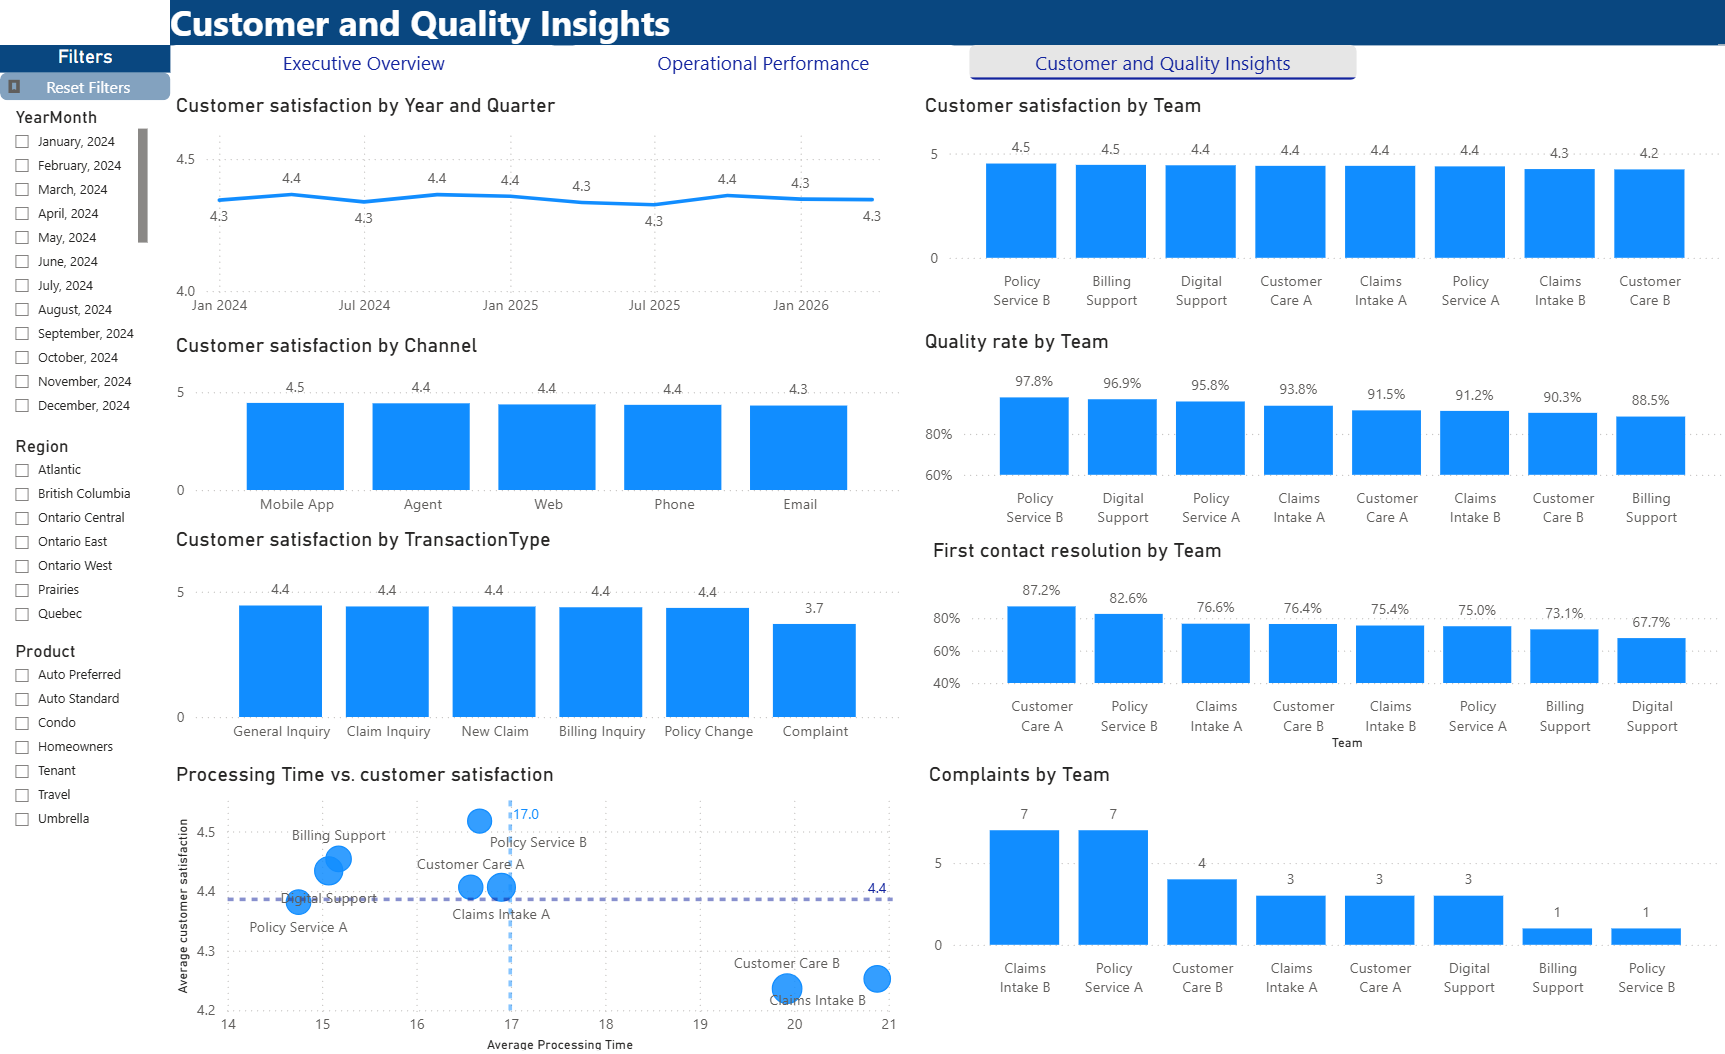

This screenshot's page, from the dashboard's own definition file:
{"tool":"powerbi","page":{"name":"Customer and Quality Insights","canvas":[1440,900],"ordinal":2},"visuals":[{"type":"lineChart","title":"Customer satisfaction by Year and Quarter","fields":{"Category":["DimDate.YearMonth.Variation.Date Hierarchy.Year","DimDate.YearMonth.Variation.Date Hierarchy.Quarter","DimDate.YearMonth.Variation.Date Hierarchy.Month","DimDate.YearMonth.Variation.Date Hierarchy.Day"],"Y":["Measures table.Average customer satisfaction"]},"box":[141.7,96.7,614.2,195],"z":0},{"type":"columnChart","title":"Customer satisfaction by Team","fields":{"Category":["DimTeam.Team"],"Y":["Measures table.Average customer satisfaction"]},"box":[765.8,96.7,674.2,188.3],"z":1000},{"type":"columnChart","title":"Customer satisfaction by TransactionType","fields":{"Category":["FactOperations.TransactionType"],"Y":["Measures table.Average customer satisfaction"]},"box":[141.7,458.3,614.2,188.3],"z":2000},{"type":"columnChart","title":"Customer satisfaction by Channel","fields":{"Category":["DimChannel.Channel"],"Y":["Measures table.Average customer satisfaction"]},"box":[141.7,296.7,614.2,160.8],"z":3000},{"type":"columnChart","title":"Quality rate by Team","fields":{"Category":["DimTeam.Team"],"Y":["Measures table.Quality rate %"]},"box":[765.8,293.3,674.2,172.5],"z":4000},{"type":"columnChart","title":"Complaints by Team","fields":{"Category":["DimTeam.Team"],"Y":["Sum(FactOperations.ComplaintFlag)"]},"box":[769.2,654.2,667.5,203.3],"z":5000},{"type":"slicer","fields":{"Values":["DimDate.YearMonth"]},"box":[0,103,127.9,267.9],"z":6000},{"type":"slicer","fields":{"Values":["DimRegion.Region"]},"box":[0,377.3,127.9,177.9],"z":7000},{"type":"slicer","fields":{"Values":["DimProduct.Product"]},"box":[0,548.7,134.2,170.8],"z":8000},{"type":"columnChart","title":"First contact resolution by Team","fields":{"Category":["DimTeam.Team"],"Y":["Measures table.First contact resolution %"]},"box":[772.5,467.5,667.5,180.8],"z":9000},{"type":"scatterChart","title":"Processing Time vs. customer satisfaction","fields":{"Category":["DimTeam.Team"],"Size":["Measures table.Total transactions"],"X":["Measures table.Average Processing Time"],"Y":["Measures table.Average customer satisfaction"]},"box":[141.7,654.2,614.2,245.8],"z":10000},{"type":"textbox","title":"INSURANCE OPERATIONS PERFORMANCE","box":[142,0,1298,57],"z":11000},{"type":"pageNavigator","title":"lalala","box":[142,57,991,29],"z":12000},{"type":"actionButton","title":"Filters","box":[0,57,142,46],"z":13000}]}

Visuals, with their boxes in screenshot pixels (x1, y1, x2, y2), scaled from the page's 1440x900 canvas onto the 1725x1054 screenshot:
"Customer satisfaction by Year and Quarter" lineChart: (170, 113, 906, 342)
"Customer satisfaction by Team" columnChart: (917, 113, 1724, 334)
"Customer satisfaction by TransactionType" columnChart: (170, 537, 906, 757)
"Customer satisfaction by Channel" columnChart: (170, 347, 906, 536)
"Quality rate by Team" columnChart: (917, 343, 1724, 546)
"Complaints by Team" columnChart: (921, 766, 1721, 1004)
slicer - DimDate.YearMonth: (0, 121, 153, 434)
slicer - DimRegion.Region: (0, 442, 153, 650)
slicer - DimProduct.Product: (0, 643, 161, 843)
"First contact resolution by Team" columnChart: (925, 547, 1724, 759)
"Processing Time vs. customer satisfaction" scatterChart: (170, 766, 906, 1053)
"INSURANCE OPERATIONS PERFORMANCE" textbox: (170, 0, 1724, 67)
"lalala" pageNavigator: (170, 67, 1357, 101)
"Filters" actionButton: (0, 67, 170, 121)
